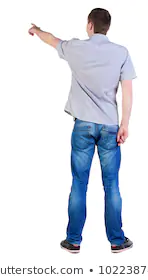person: (57, 14, 139, 82)
